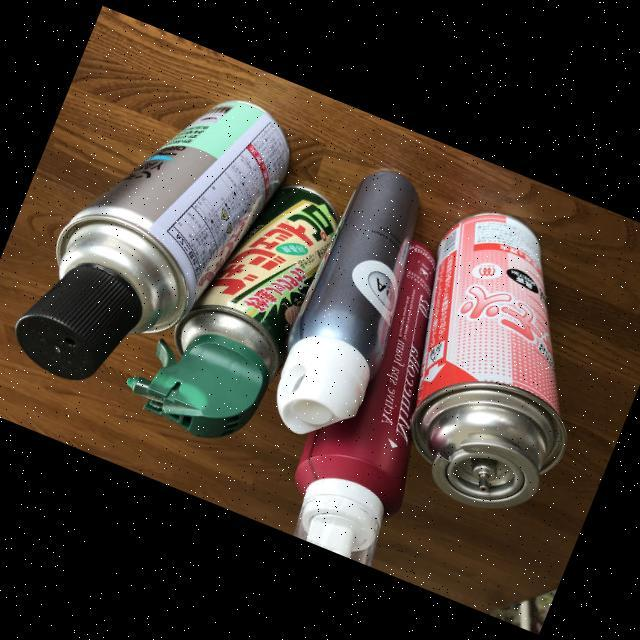chemical_spray_can: (14, 99, 289, 380), (127, 185, 339, 438), (413, 212, 568, 509), (276, 171, 418, 433)
